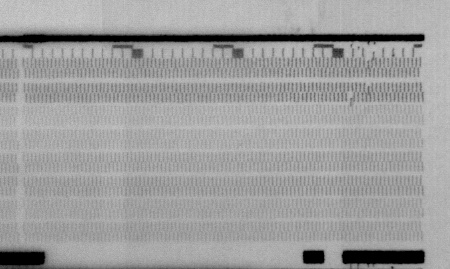Oblique printing: (345, 90, 357, 107), (363, 82, 376, 97), (363, 56, 375, 71)
